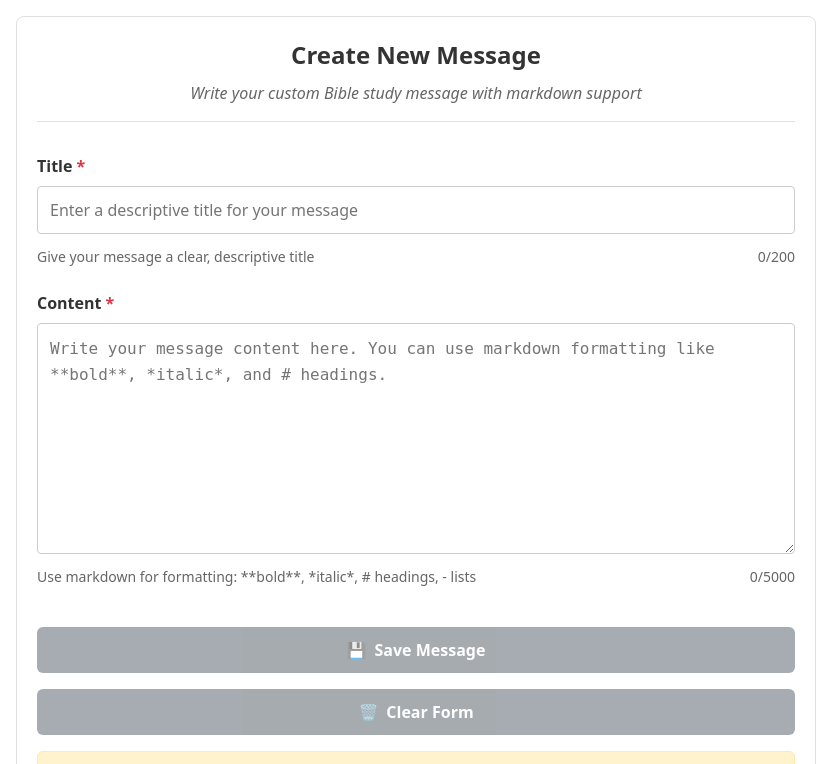
Test case: MessageEditor Component › Character Counters › updates title character counter as user types
Type "Hello" into the field labelled "Title *" at (416, 210), box [37,186,795,234]
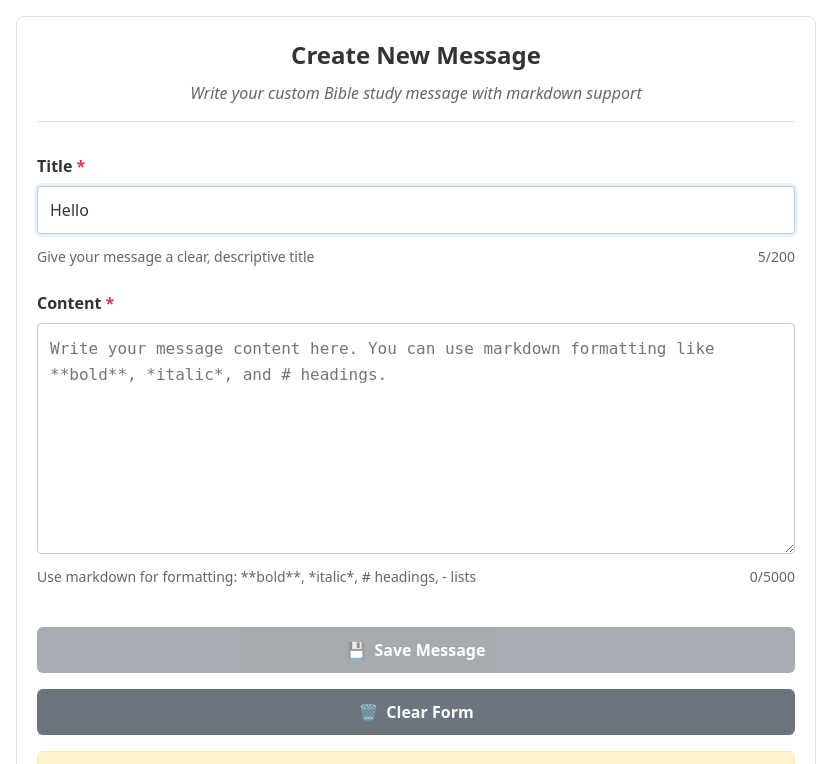
Expected: the text "5/200" is shown, [758,246,795,267]
